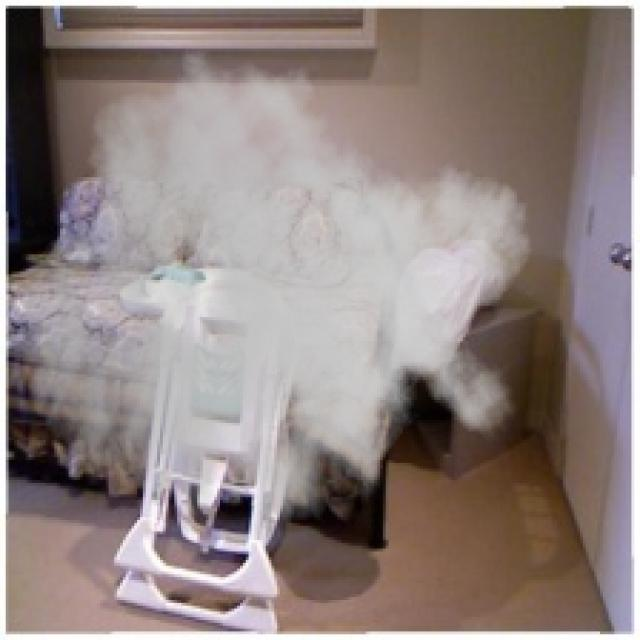smoke: (20, 34, 534, 580)
